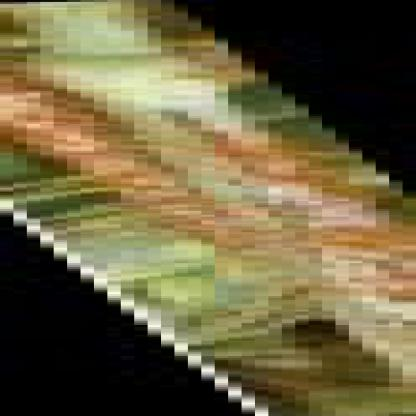wheat Stem Rust: (28, 100, 366, 177), (151, 184, 403, 229), (197, 236, 416, 282)
